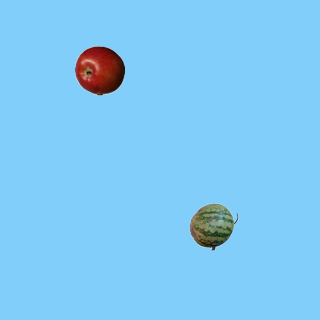Apple Braeburn: (74, 45, 124, 95)
Watermelon: (188, 201, 238, 251)
